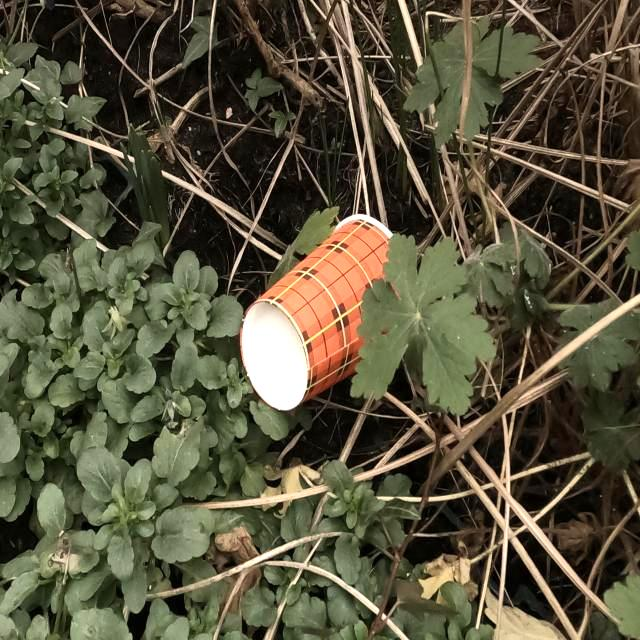Coffee Cup: (238, 214, 410, 410)
